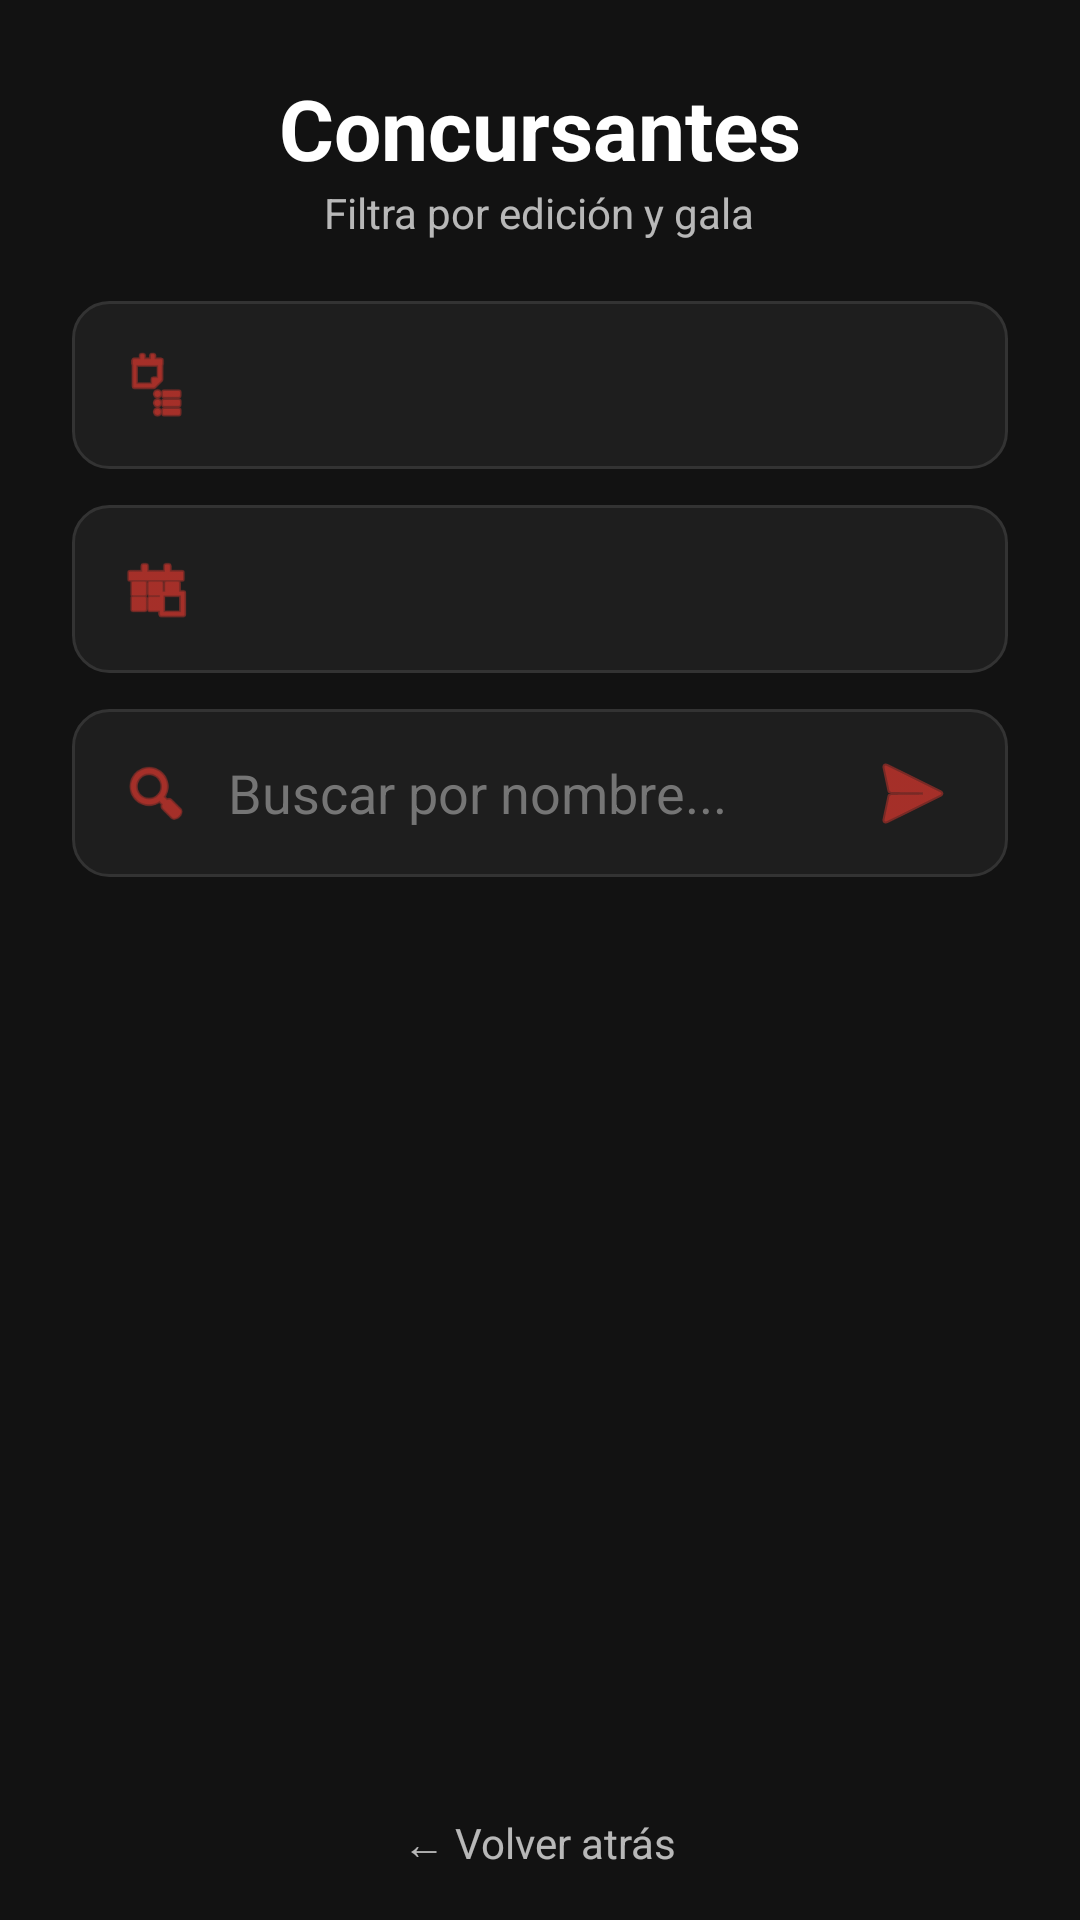

Where to tap for icons on this 1080×1920 app screen, as point (x, y):
agenda: point (156, 385)
search: point (156, 793)
send: point (913, 793)
today: point (156, 590)
